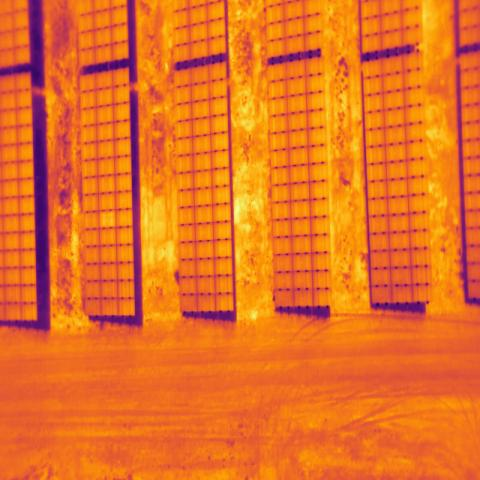fault: (99, 211, 113, 227)
